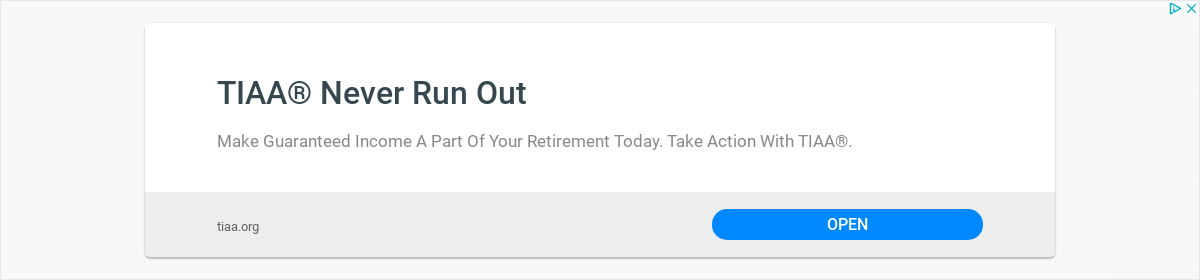fake_button: (699, 196, 996, 248)
